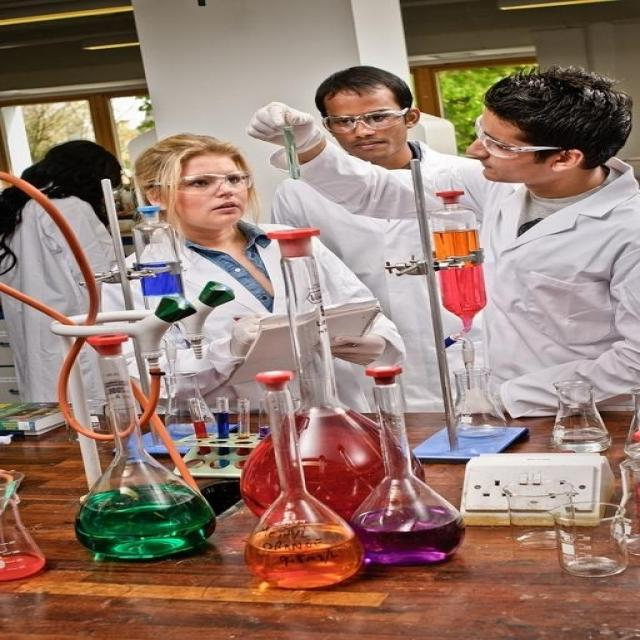Medical Waste: (5, 194, 640, 627)
